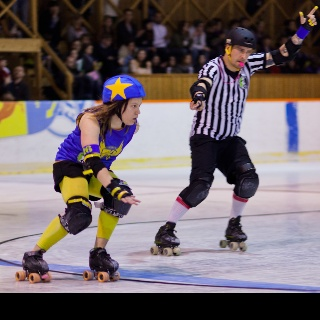without_mask: (119, 96, 141, 126)
